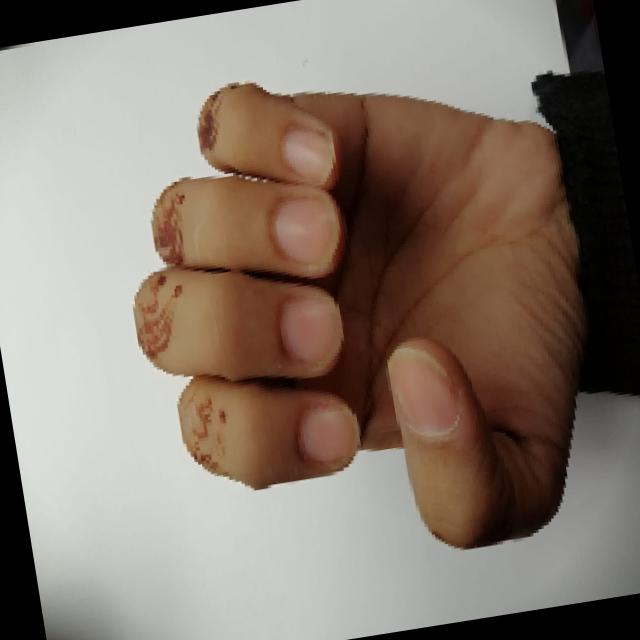Nail: (388, 345, 458, 437), (273, 193, 342, 267), (280, 299, 342, 367), (299, 400, 359, 462), (281, 127, 335, 185)
